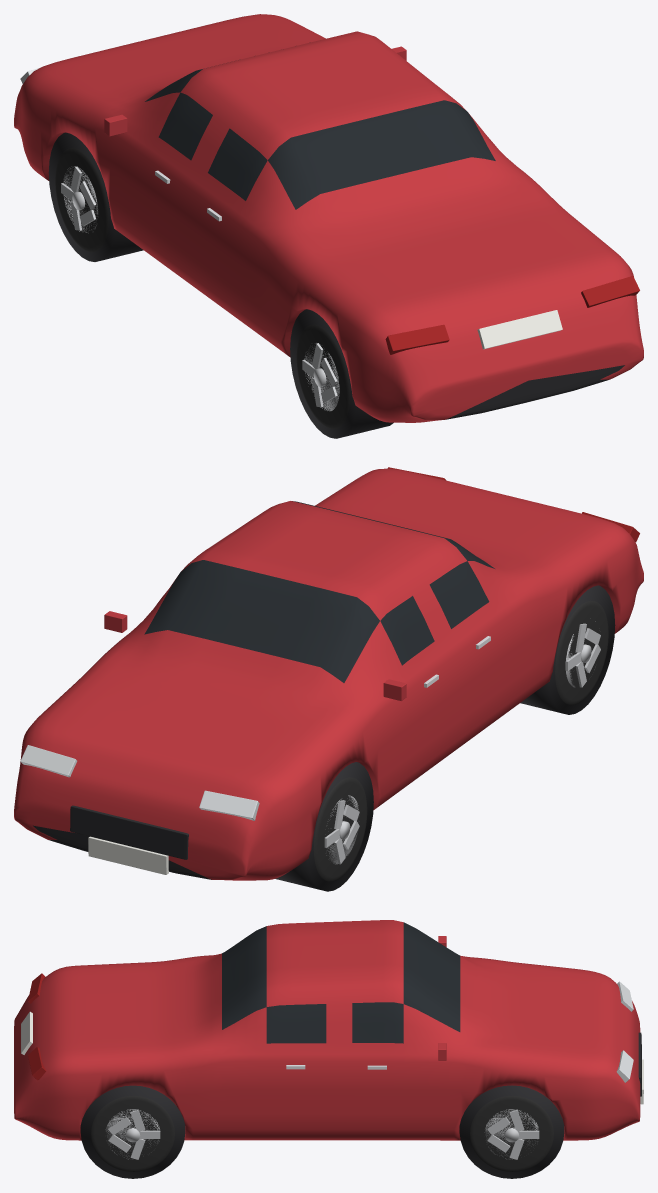
Rendered from car_sedan.glb.
3 views of the same model, one above another, from view 1: azimuth 30°, elevation 25°; view 2: azimuth 150°, elevation 25°; view 3: azimuth 270°, elevation 25° (orthographic). The views are drawn at different scales.
Parts seen in each view (by area): view 1: car_sedan; view 2: car_sedan; view 3: car_sedan.
Boxes of the visible parts, box(x1,y1,x2,y2) form: car_sedan: box(14, 14, 643, 438); car_sedan: box(14, 467, 643, 891); car_sedan: box(14, 920, 643, 1178).
Bounding box in the file's own units: 1.98 × 1.46 × 4.63.
